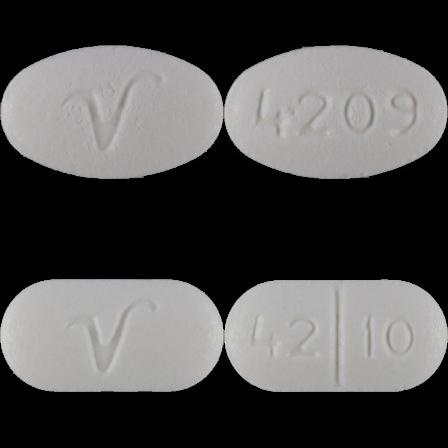0603-4209: (0, 0, 224, 224)
